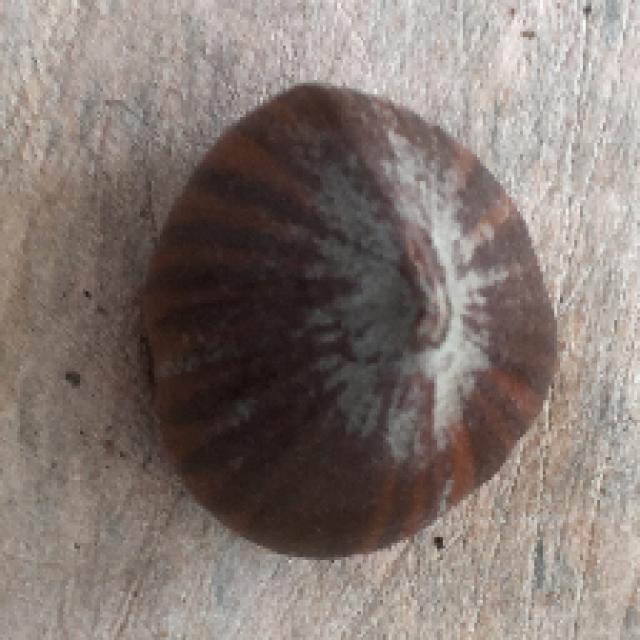damagedHazelnut: (132, 80, 561, 562)
